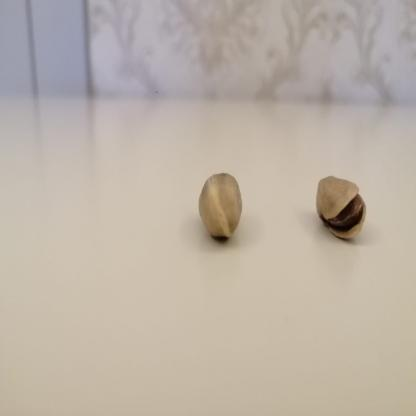pistachio: (196, 160, 245, 247), (317, 168, 367, 239)
